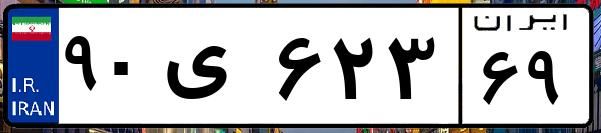0: (110, 28, 158, 98)
2: (330, 28, 385, 110)
3: (385, 28, 445, 110)
6: (270, 28, 330, 110), (475, 38, 525, 113)
9: (57, 26, 110, 100), (525, 38, 570, 115)
ی: (158, 20, 270, 120)
